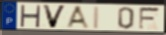0: (117, 6, 136, 31)
A: (65, 5, 92, 30)
F: (138, 7, 162, 31)
H: (19, 4, 42, 28)
I: (92, 5, 102, 30)
V: (41, 4, 68, 29)
